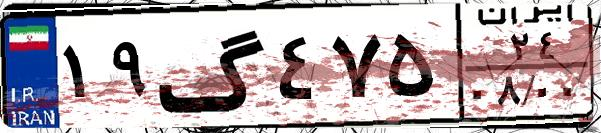0: (560, 70, 590, 125), (470, 70, 495, 125), (535, 70, 560, 125)
1: (57, 26, 110, 100)
2: (508, 27, 537, 80)
4: (270, 28, 330, 110), (537, 27, 568, 80)
5: (385, 28, 445, 110)
7: (330, 28, 385, 110)
8: (495, 70, 520, 125)
9: (110, 28, 156, 98)
گ: (156, 12, 270, 120)
